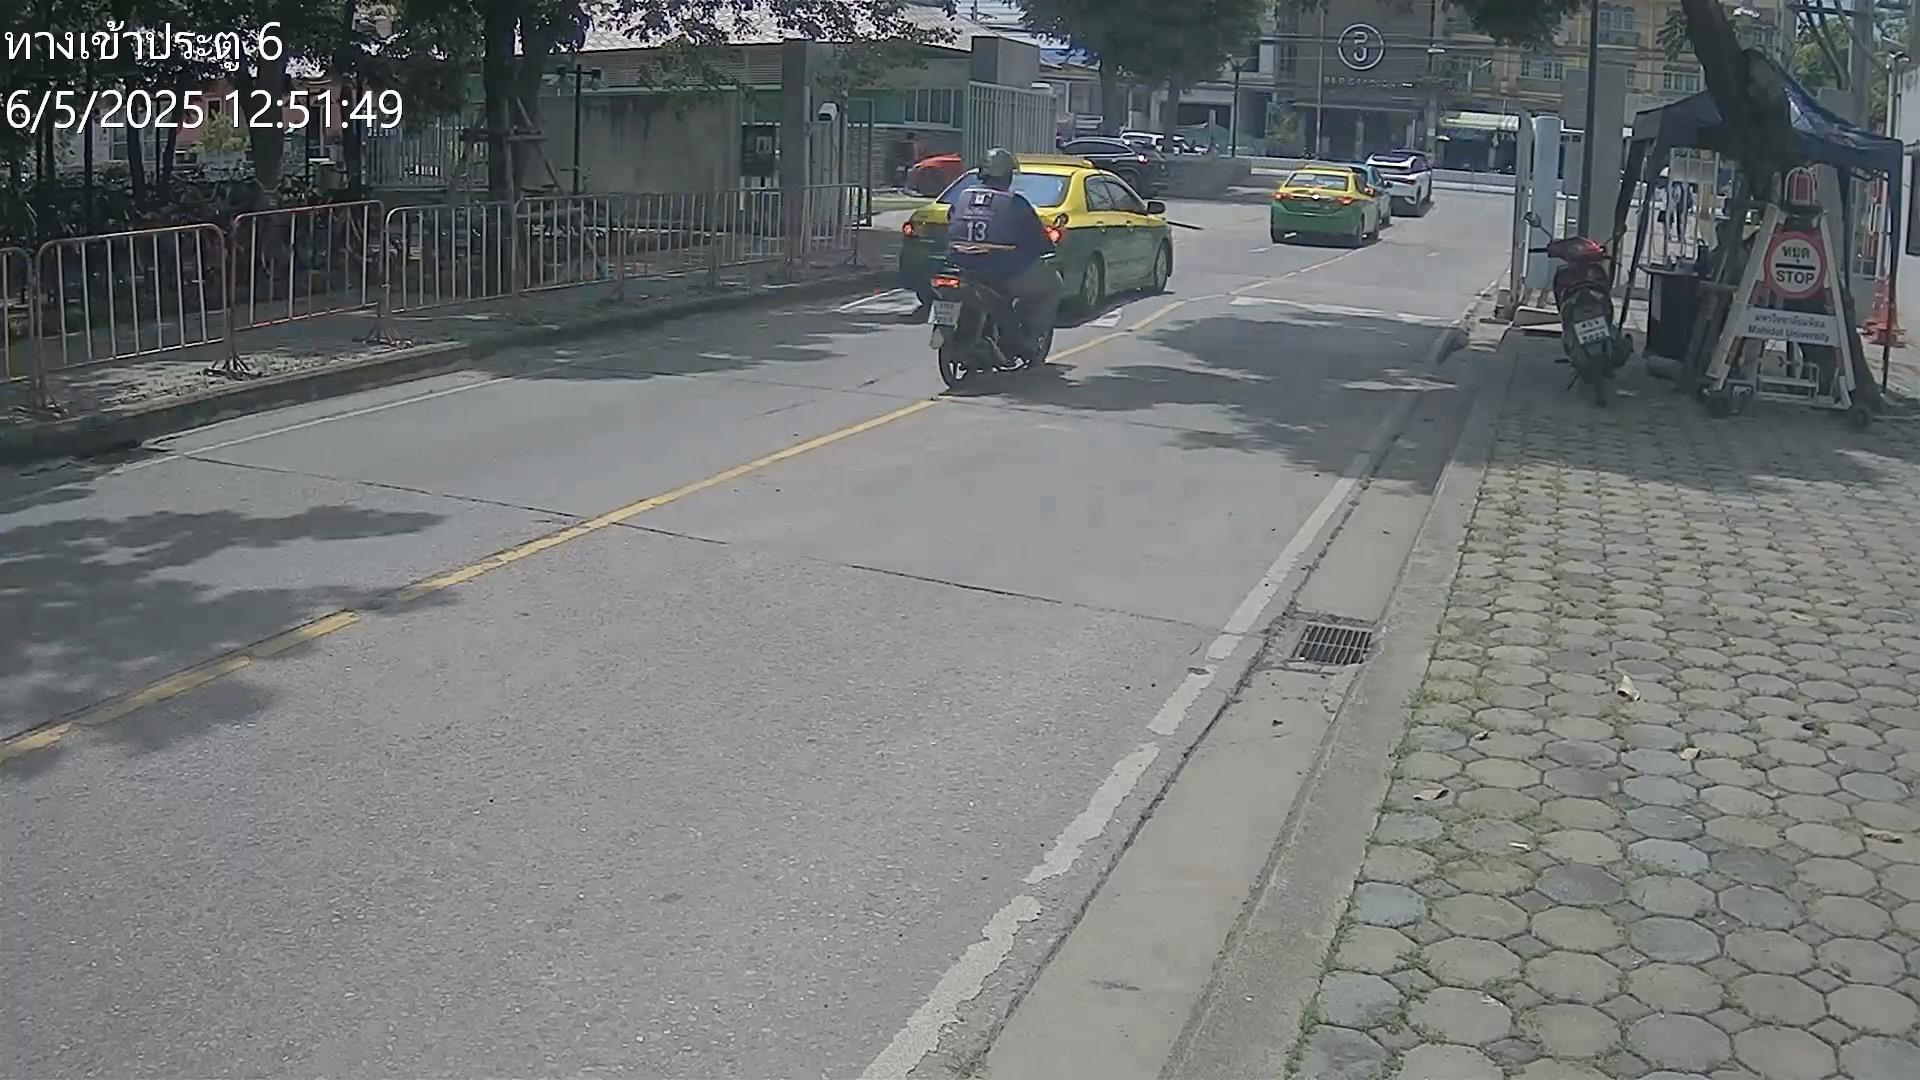With-Helmet: (977, 145, 1019, 187)
